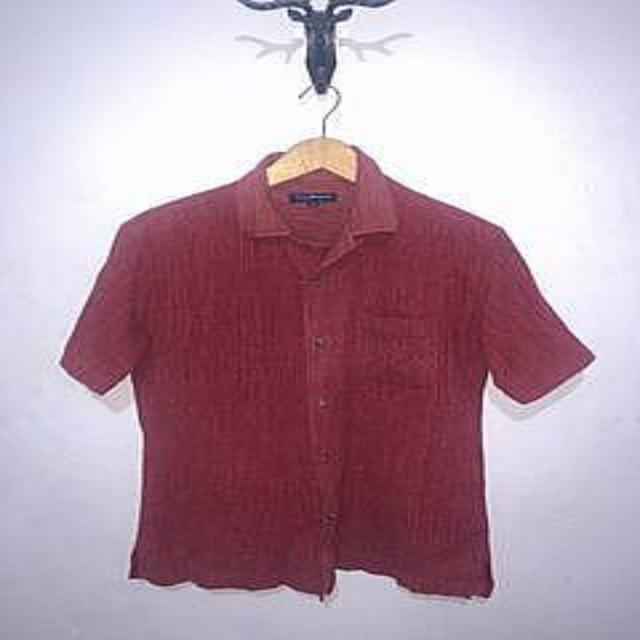SHIRT: (43, 133, 612, 605)
